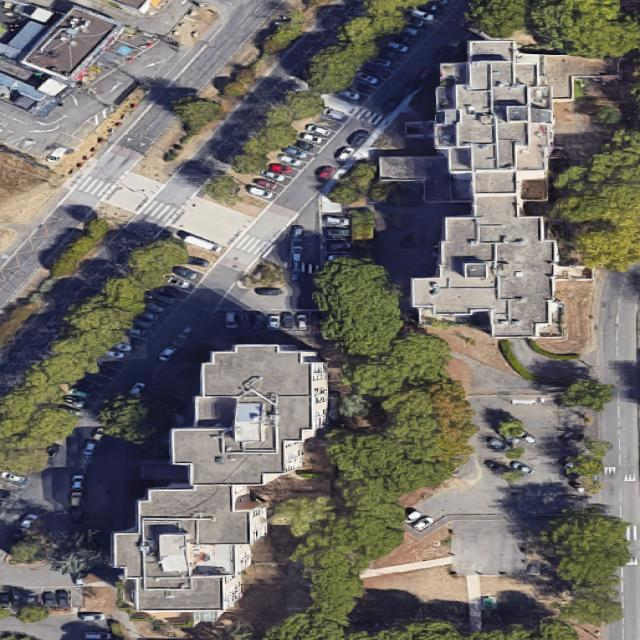immeuble: (89, 308, 352, 640), (399, 30, 625, 350)
